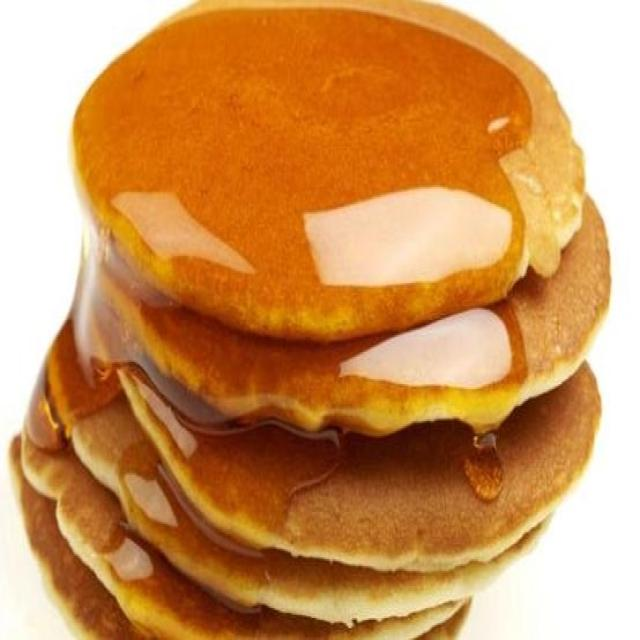蛋糕甜品: (28, 10, 613, 633)
